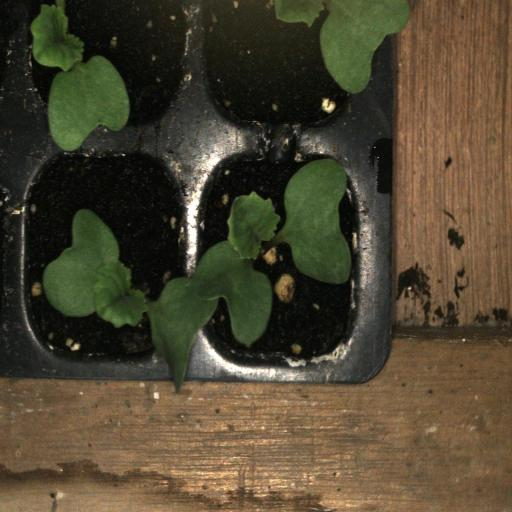seedling: (188, 133, 372, 367), (12, 133, 187, 368), (13, 0, 188, 133)
